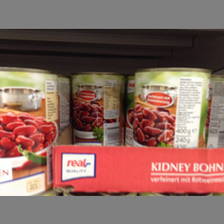beans: (1, 65, 62, 195), (133, 69, 213, 150), (69, 69, 127, 146)
